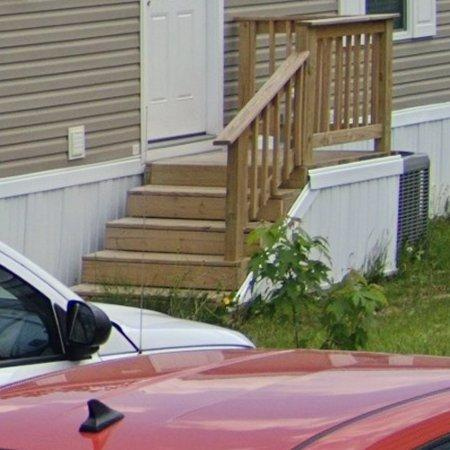stairs: (75, 125, 301, 298)
